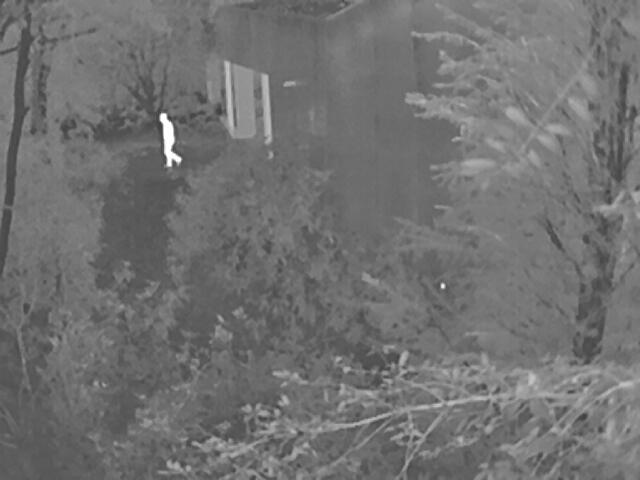person: (156, 111, 179, 166)
